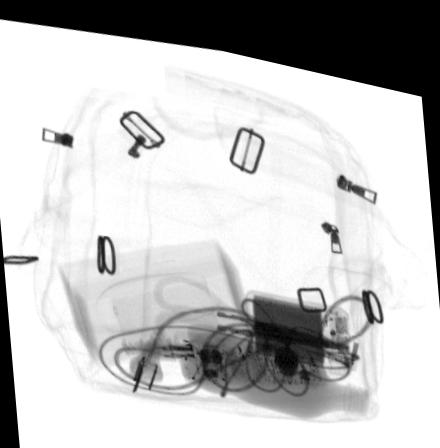Powerbank: (240, 276, 351, 356)
Scissors: (153, 266, 356, 339)
